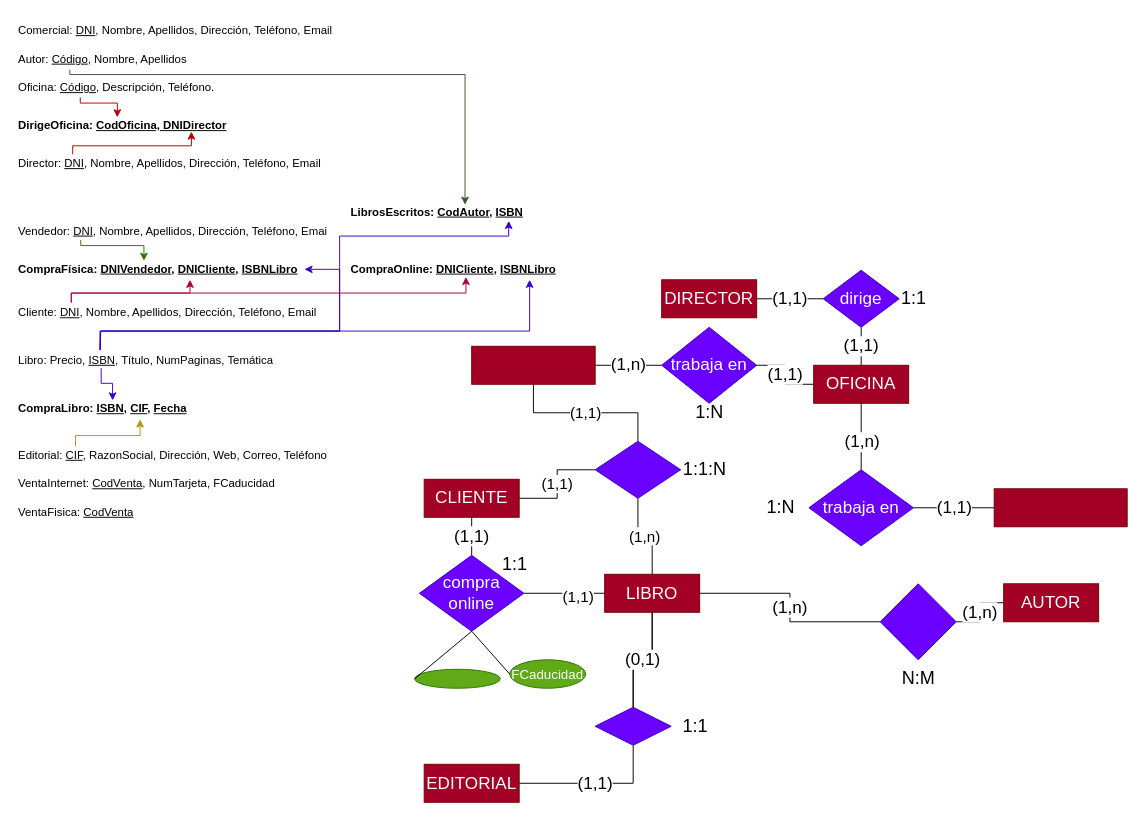
Image size: 1144x819. Some labels were removed from this diagram. Each missing label, with the box of its shape:
COMERCIAL: (993, 488, 1127, 527)
compra: (594, 706, 671, 745)
compra física: (594, 440, 681, 498)
escribe: (879, 583, 956, 660)
NumTarjeta: (414, 668, 500, 688)
VENDEDOR: (471, 345, 595, 384)
